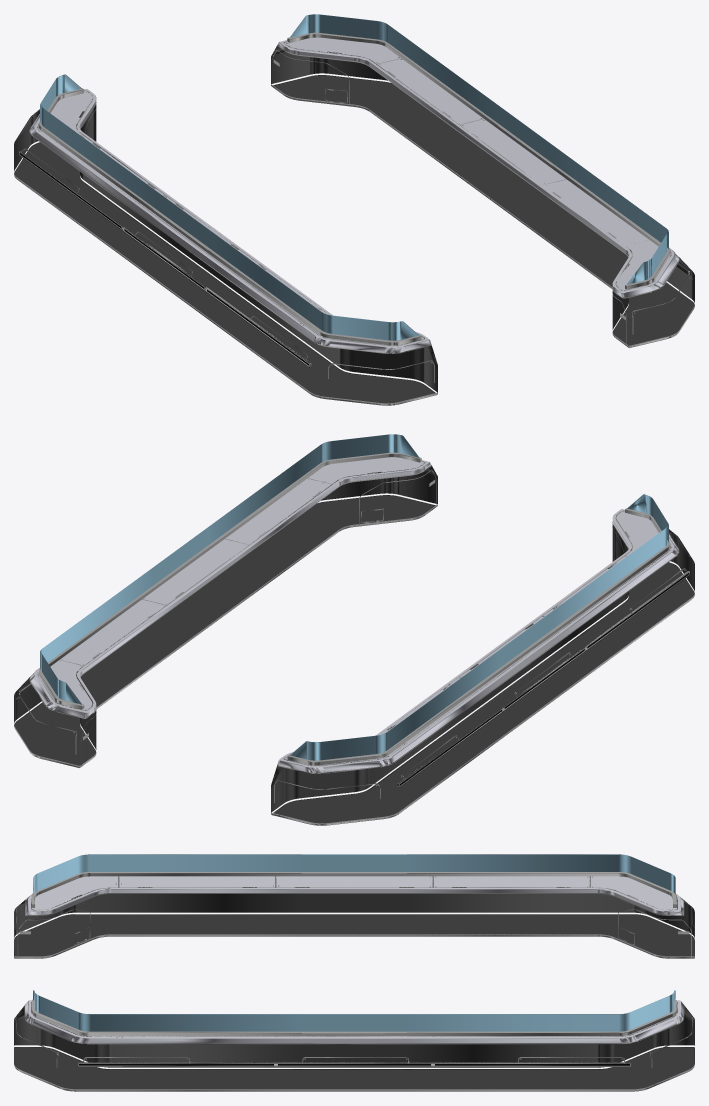
Rendered from hab_tower_elevator_area_floor_a.glb.
The picture shows the model from 3 angles, top to bottom: view 1: azimuth 30°, elevation 25°; view 2: azimuth 150°, elevation 25°; view 3: azimuth 270°, elevation 25°; orthographic projection. The views are drawn at different scales.
Bounding box in the file's own units: 8 × 1.45 × 13.
